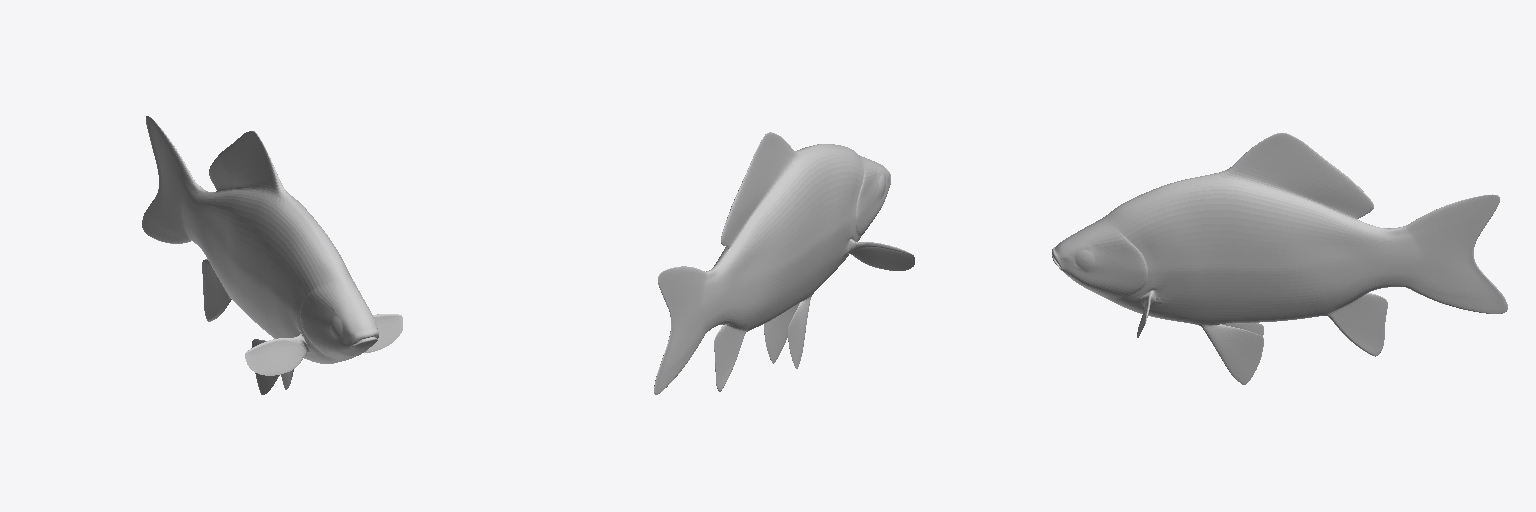
File: fish.obj
3 views of the same model, side by side, from view 1: azimuth 30°, elevation 25°; view 2: azimuth 150°, elevation 25°; view 3: azimuth 270°, elevation 25° (orthographic).
Visible parts, largest first — view 1: Crician_HP_Cube.001; view 2: Crician_HP_Cube.001; view 3: Crician_HP_Cube.001.
Boxes of the visible parts, <box> form: Crician_HP_Cube.001: <box>142,116,402,394</box>; Crician_HP_Cube.001: <box>654,132,914,394</box>; Crician_HP_Cube.001: <box>1052,133,1507,384</box>.
Bounding box in the file's own units: 3.87 × 5.79 × 9.71.